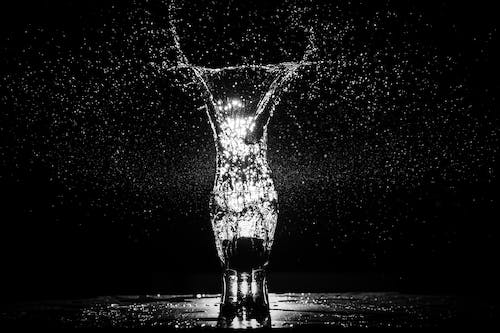alcohol: (207, 190, 281, 333)
